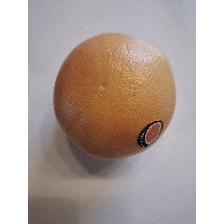Pampelmuse: (53, 30, 180, 162)
